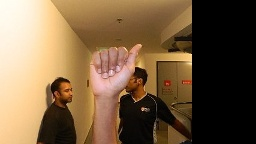Pugno: (84, 42, 144, 98)
